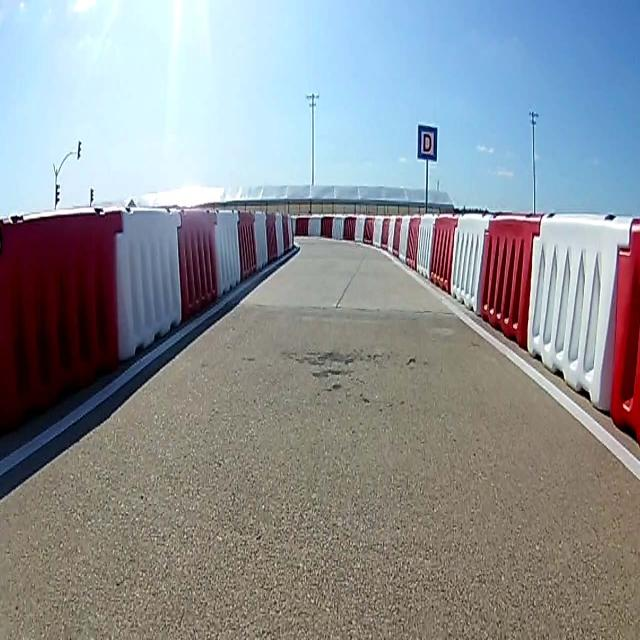durak: (417, 123, 438, 161)
